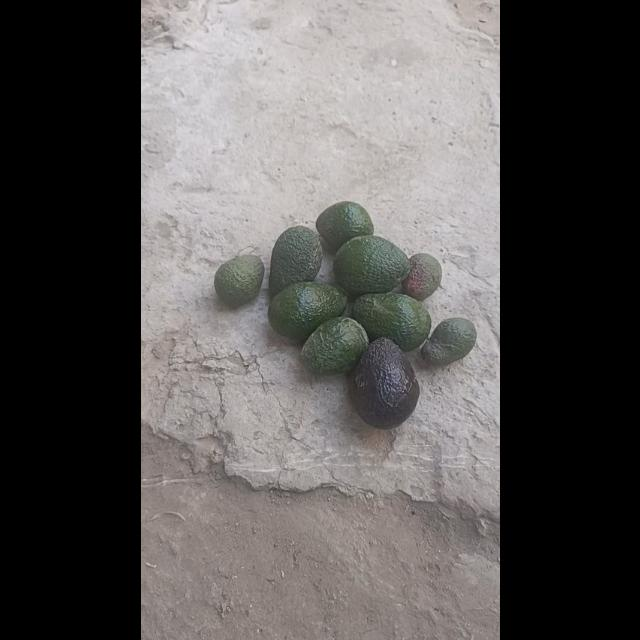Primera: (349, 338, 419, 427), (266, 280, 344, 342), (352, 292, 430, 351), (332, 235, 408, 295), (268, 226, 322, 296), (314, 200, 374, 252)
Segunda: (300, 316, 370, 374), (212, 253, 264, 307)
Tercera: (420, 316, 476, 368), (400, 252, 440, 302)
